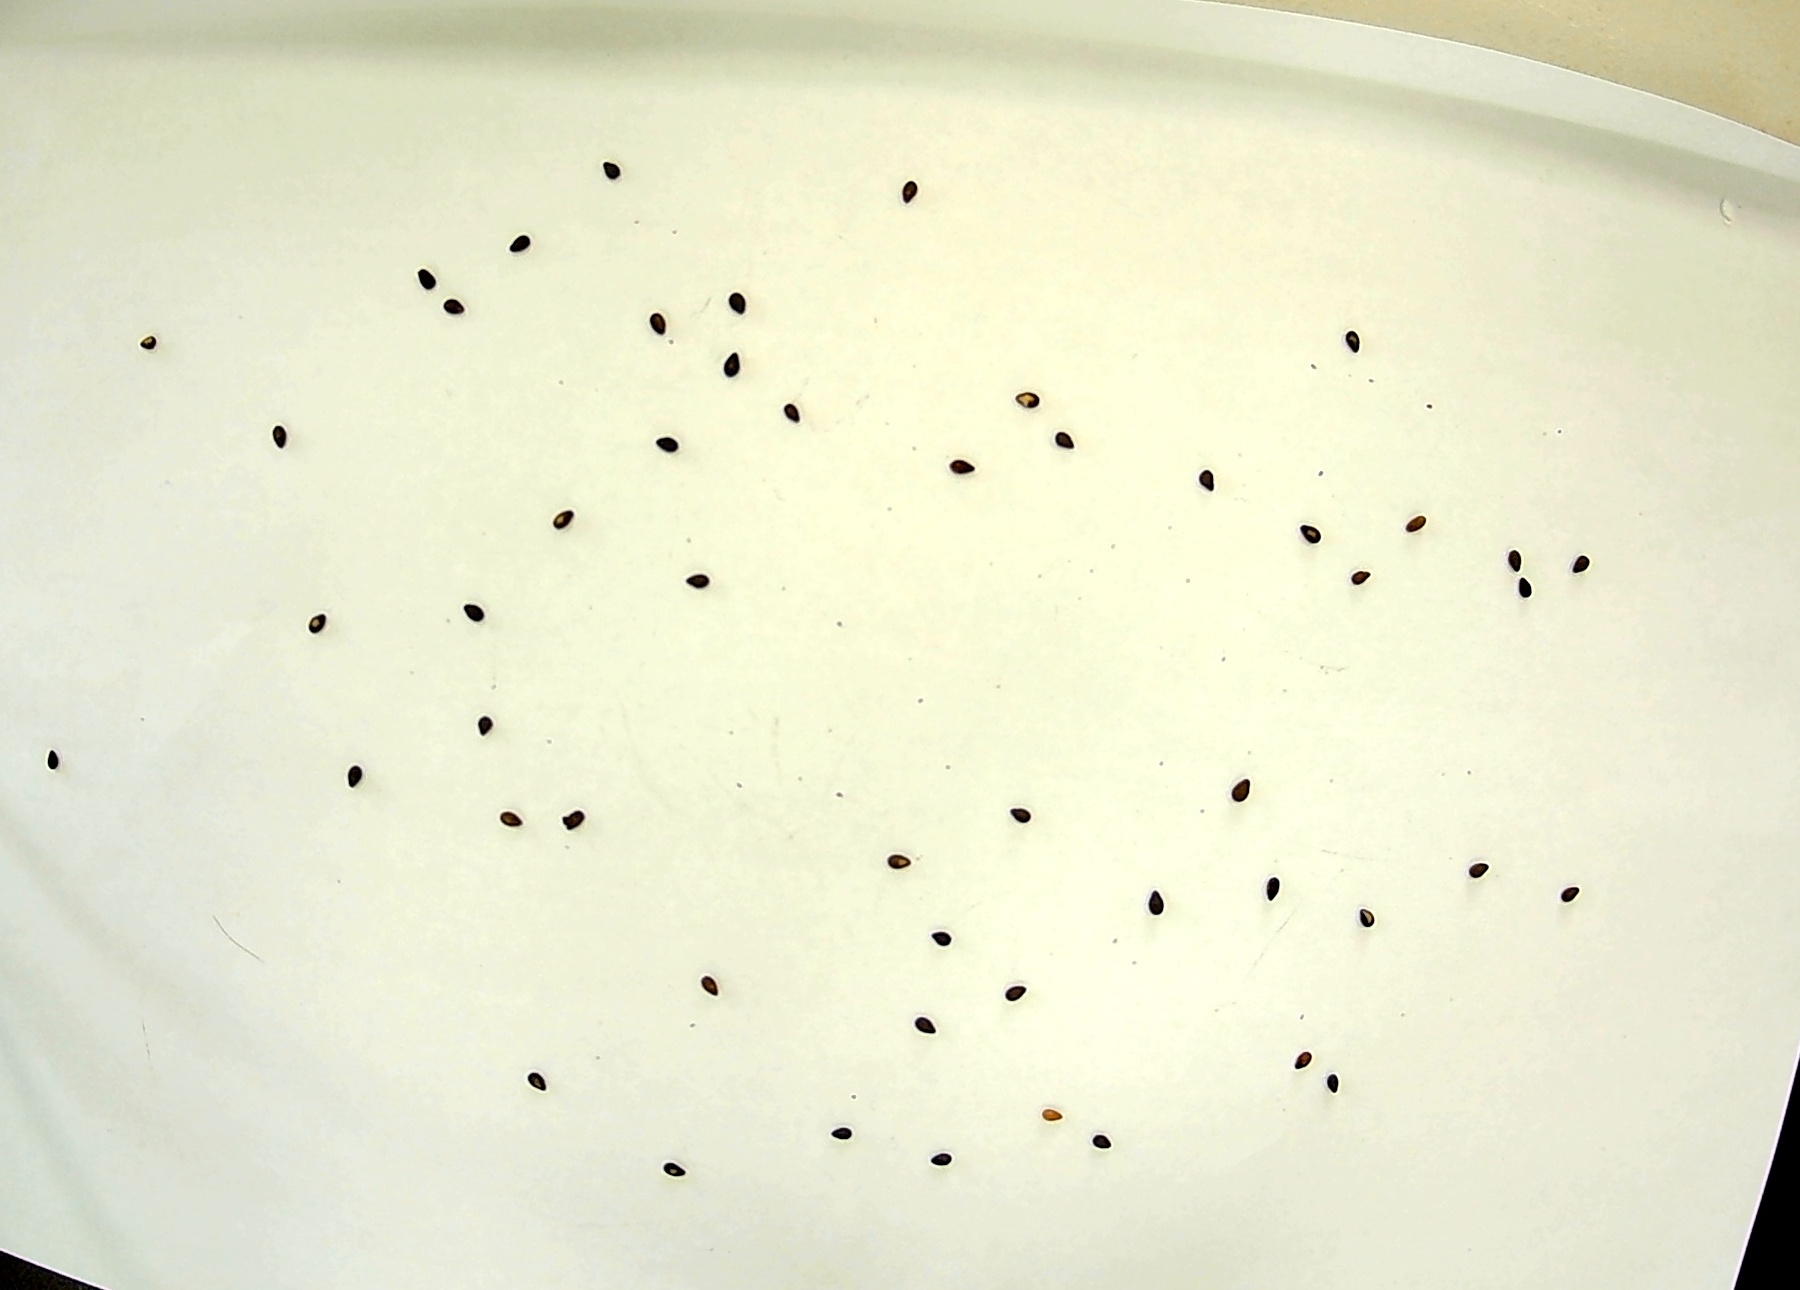sesami: (827, 1107, 860, 1155), (1342, 320, 1372, 355), (929, 919, 959, 954), (1321, 1062, 1351, 1097), (773, 392, 801, 429), (949, 445, 977, 482), (562, 794, 590, 831), (412, 260, 440, 295), (440, 285, 467, 320), (511, 233, 539, 268), (592, 156, 620, 191), (267, 419, 294, 454), (135, 328, 163, 363), (28, 741, 56, 776), (299, 605, 327, 639), (339, 758, 367, 793), (473, 706, 501, 741), (451, 593, 479, 628), (547, 493, 575, 528), (653, 423, 681, 458), (642, 304, 670, 339), (719, 283, 747, 318), (712, 346, 740, 381), (892, 165, 920, 200), (1014, 387, 1042, 422), (1051, 417, 1079, 452), (1193, 464, 1221, 498), (687, 560, 714, 595), (491, 810, 519, 845), (523, 1067, 551, 1102), (699, 970, 727, 1005), (654, 1160, 682, 1195), (928, 1143, 956, 1178), (1040, 1097, 1067, 1132), (998, 984, 1026, 1019), (880, 845, 908, 880), (1007, 796, 1035, 831), (1141, 888, 1169, 923), (1218, 773, 1246, 808), (1261, 877, 1289, 912), (1349, 896, 1377, 931), (1291, 1043, 1319, 1078), (1462, 854, 1490, 889), (1560, 873, 1588, 907), (1568, 553, 1596, 588), (1515, 577, 1543, 611), (1499, 546, 1527, 581), (1401, 507, 1429, 542), (1345, 561, 1373, 596), (1300, 512, 1328, 547), (911, 1009, 935, 1039)
